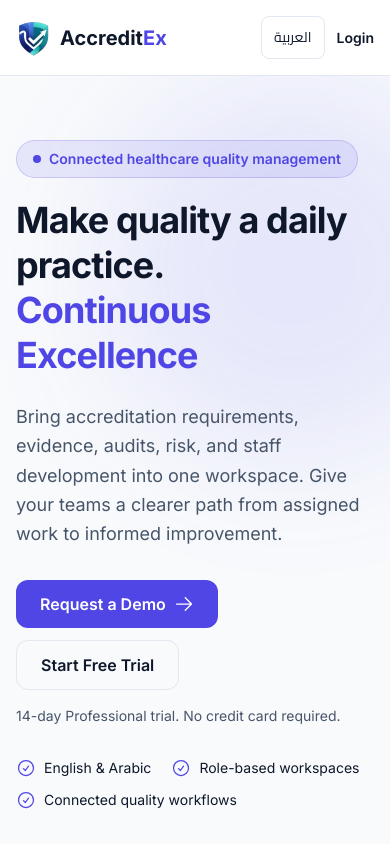
Test: Public landing experience › submits trimmed contact details and shows confirmation only on success
Click the button "Request a Demo" at (117, 604), box [16,580,218,628]
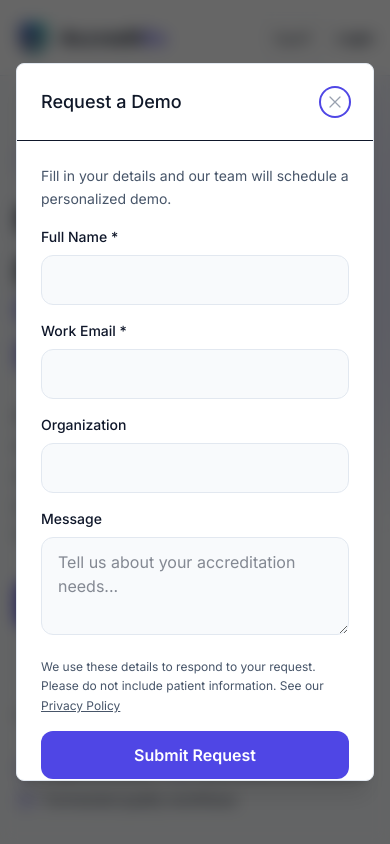
Type "  Demo Person  " into the field labelled "Full Name *" at (195, 280), box [41,255,349,305]
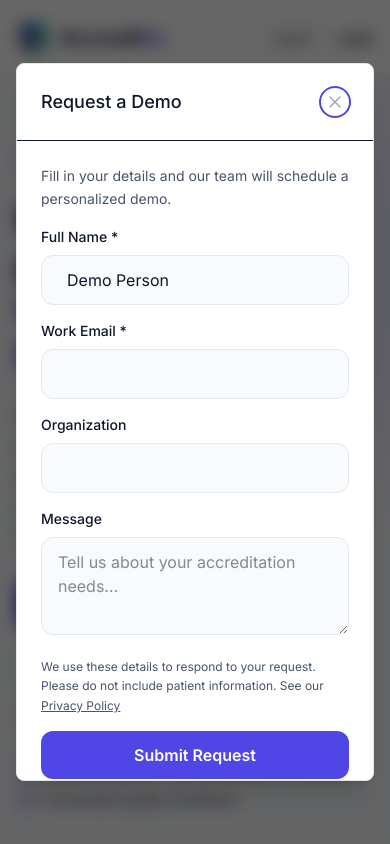
Type "demo@example.test" into the field labelled "Work Email *" at (195, 374), box [41,349,349,399]
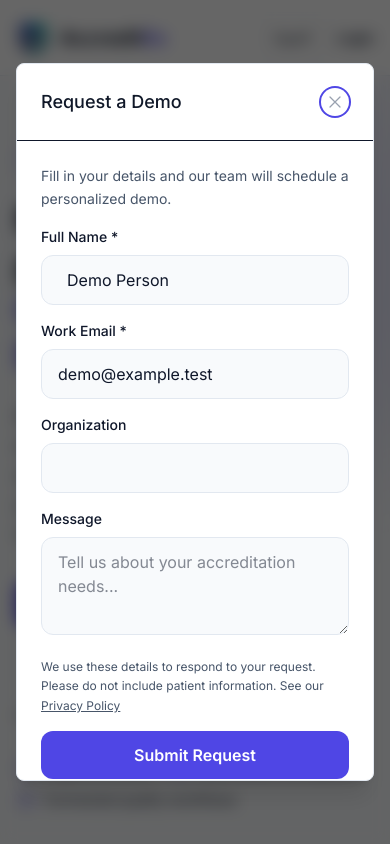
Click the button "Submit Request" at (195, 755), box [41,731,349,779]
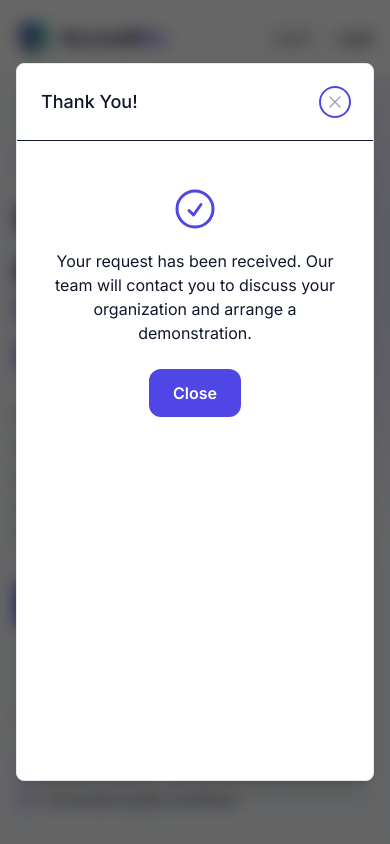
Check: the message shows "Your request has been received", box [55,251,335,343]
